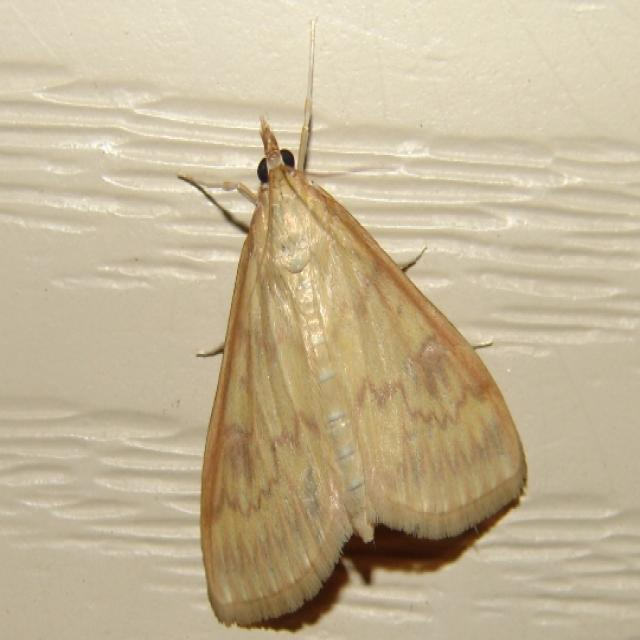cornborer-Adult-: (162, 104, 548, 629)
